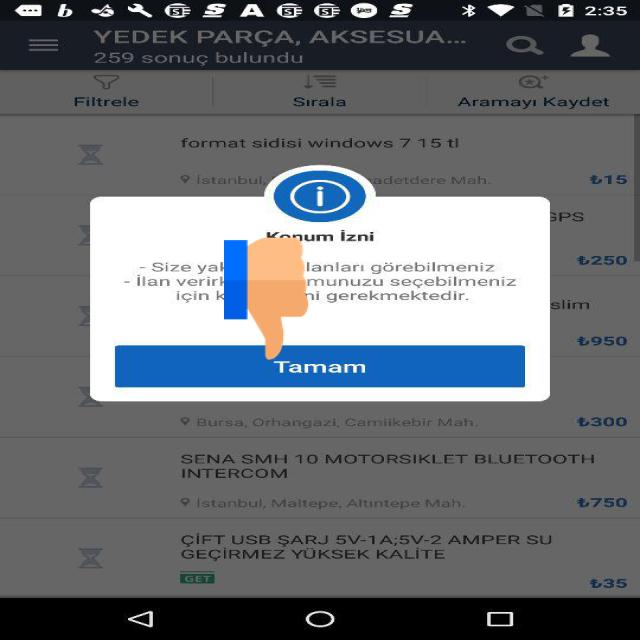obstruction: (224, 235, 308, 362)
